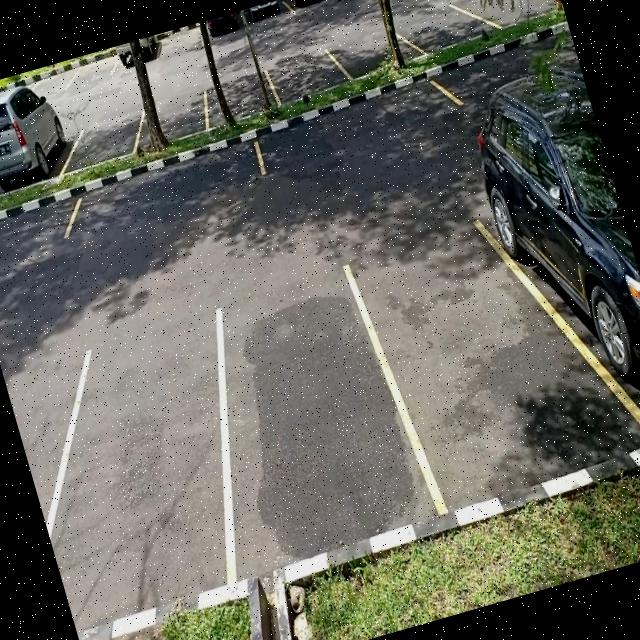empty: (177, 261, 435, 578), (7, 306, 254, 625), (358, 205, 589, 510), (250, 65, 462, 182), (58, 130, 270, 238), (58, 95, 146, 168), (330, 15, 420, 84), (132, 78, 214, 148), (197, 64, 280, 130), (266, 42, 348, 107), (401, 0, 482, 55)
occupied: (480, 96, 640, 460), (0, 91, 76, 197)
